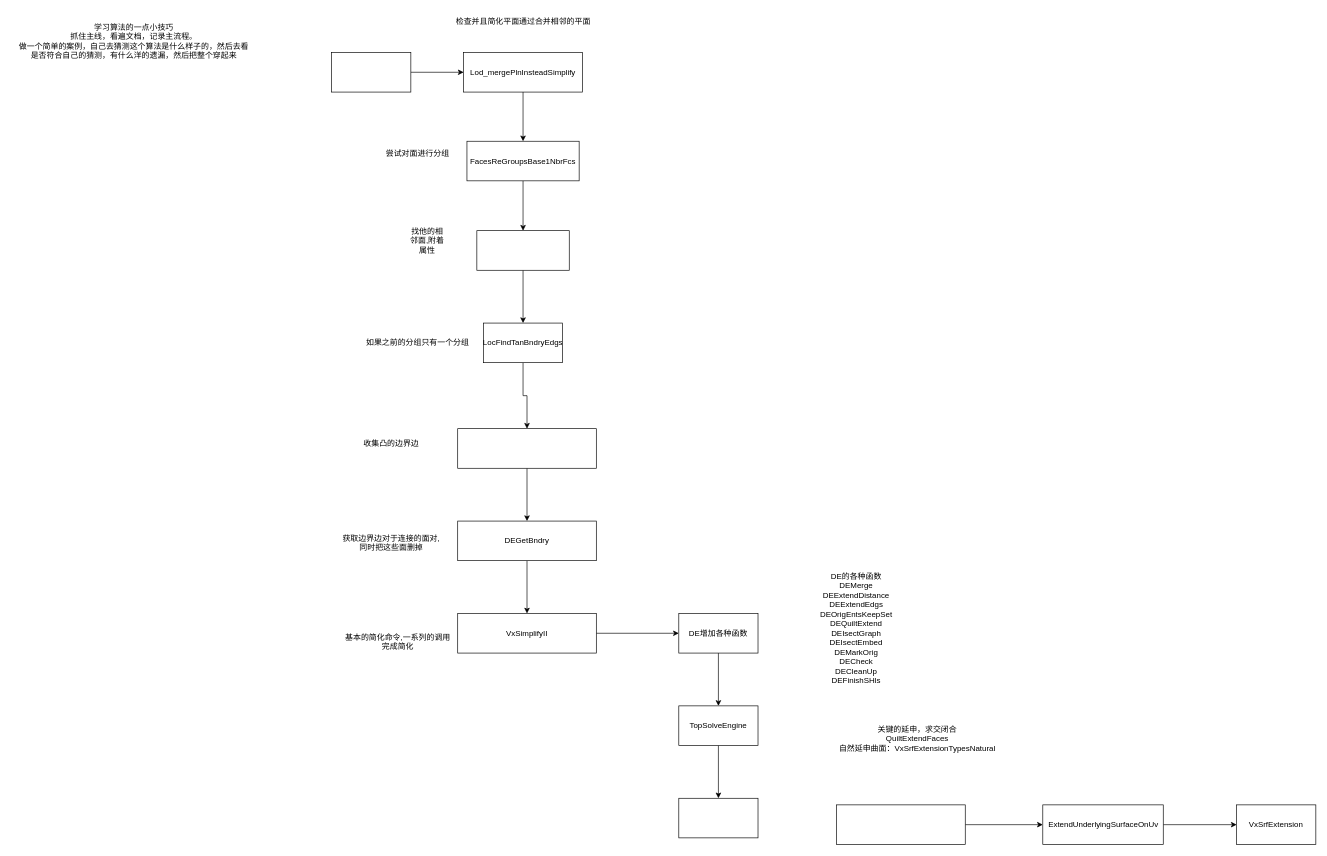
Some shapes in this 1327 by 856 pixel diagram are drawn without their labels. Each missing label, with the centre of its shape:
"CdSimply" goes at point 371,72.
"DECall" goes at point 718,818.
"FindAllNeighboringFaces" goes at point 522,250.
"LocCollectNBndryEdgeCnvx" goes at point 526,448.
"VxSrfExtensionTypesNatural" goes at point 900,824.
